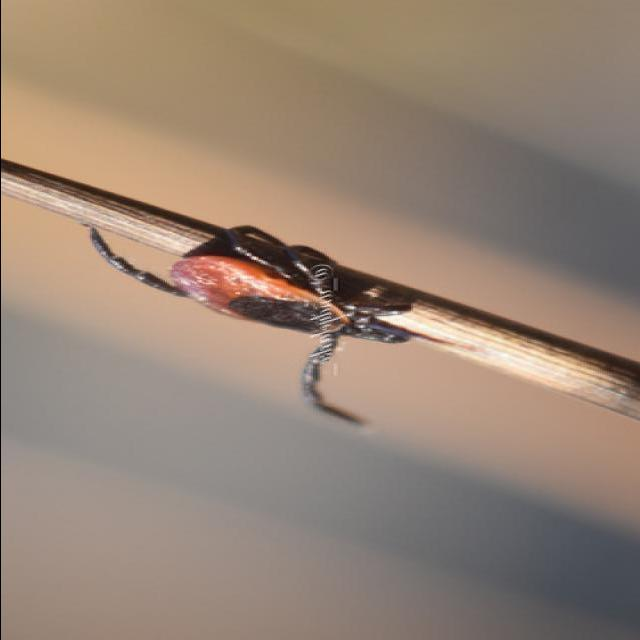Ixodes Ricinus-F: (87, 227, 412, 428)
